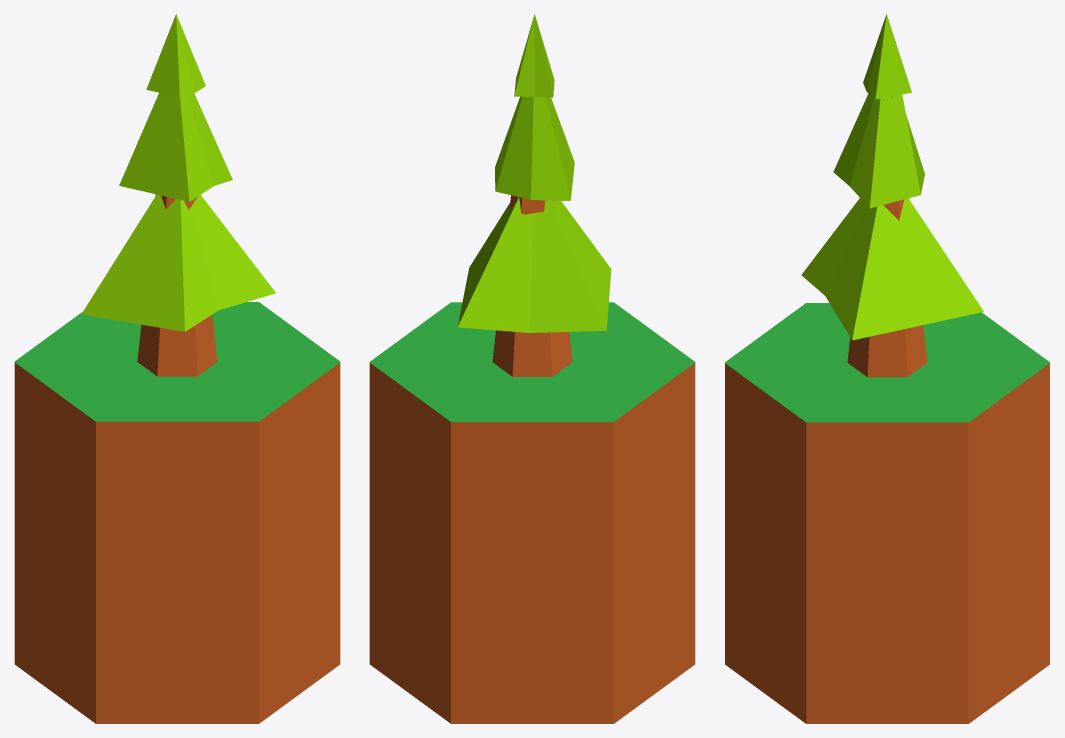
The model's file is HexTree2.fbx.
The picture shows the model from 3 angles, left to right: view 1: azimuth 30°, elevation 25°; view 2: azimuth 150°, elevation 25°; view 3: azimuth 270°, elevation 25°; orthographic projection.
Visible parts, largest first — view 1: Cylinder.002; view 2: Cylinder.002; view 3: Cylinder.002.
Part boxes in pixels (<box>): Cylinder.002: <box>14,14,340,723</box>; Cylinder.002: <box>369,14,695,723</box>; Cylinder.002: <box>724,14,1050,723</box>.
Size of the model in its own units: 174 by 441 by 201.
